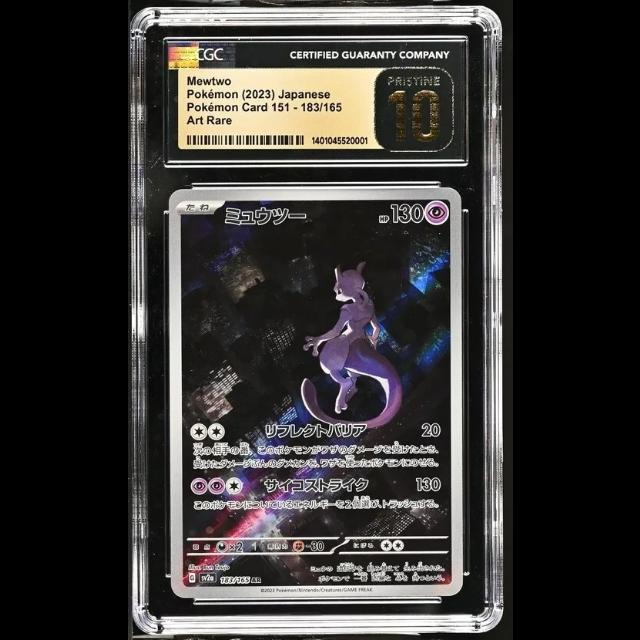card: (169, 188, 462, 597)
cgc_label: (166, 40, 463, 162)
cgc_slab: (127, 6, 505, 635)
